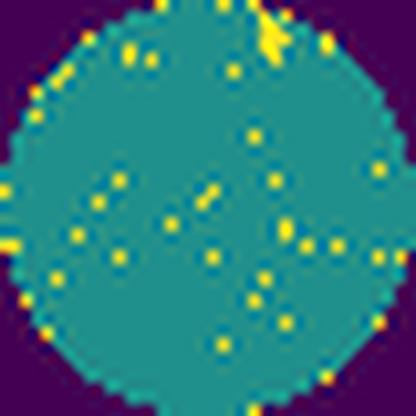Loc: (252, 9, 290, 70)
